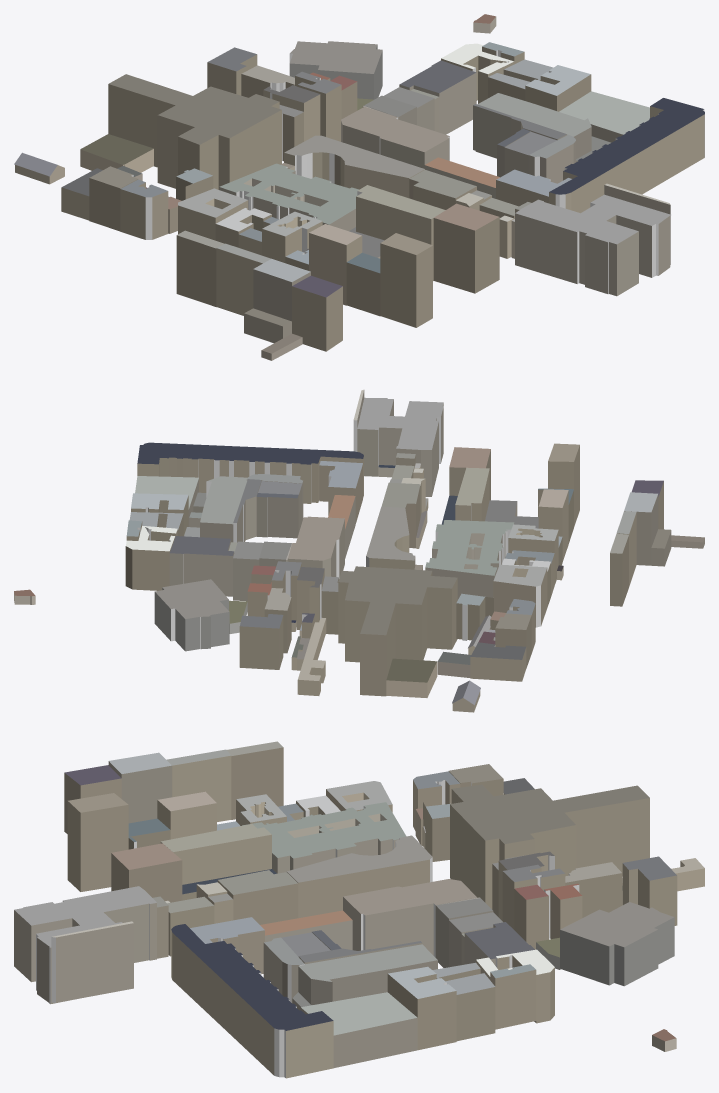
3 renders of one model, top to bottom at view 1: azimuth 30°, elevation 25°; view 2: azimuth 150°, elevation 25°; view 3: azimuth 270°, elevation 25°, orthographic. The views are drawn at different scales.
Visible parts, largest first — view 1: tuile; view 2: tuile; view 3: tuile.
Part boxes in pixels (<box>): tuile: <box>14,14,704,360</box>; tuile: <box>14,389,704,712</box>; tuile: <box>14,741,704,1078</box>.
Bounding box in the file's own units: 271 × 37.19 × 279.
